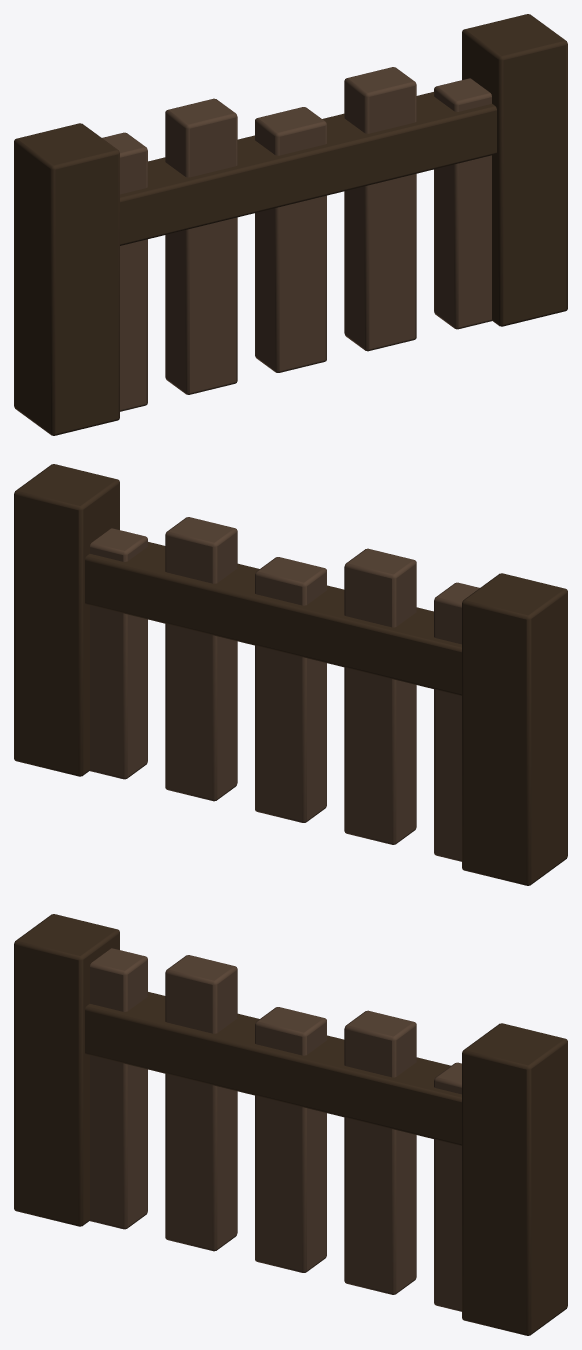
Rendered from proving-floor_cover_1.glb.
3 renders of one model, top to bottom at view 1: azimuth 30°, elevation 25°; view 2: azimuth 150°, elevation 25°; view 3: azimuth 330°, elevation 25°, orthographic.
Visible parts, largest first — view 1: barricade; view 2: barricade; view 3: barricade.
Boxes of the visible parts, x1,y1,x2,y2 form: barricade: (14, 14, 567, 435); barricade: (14, 464, 567, 885); barricade: (14, 914, 567, 1335).
Size of the model in its own units: 0.9 by 0.45 by 0.12.
